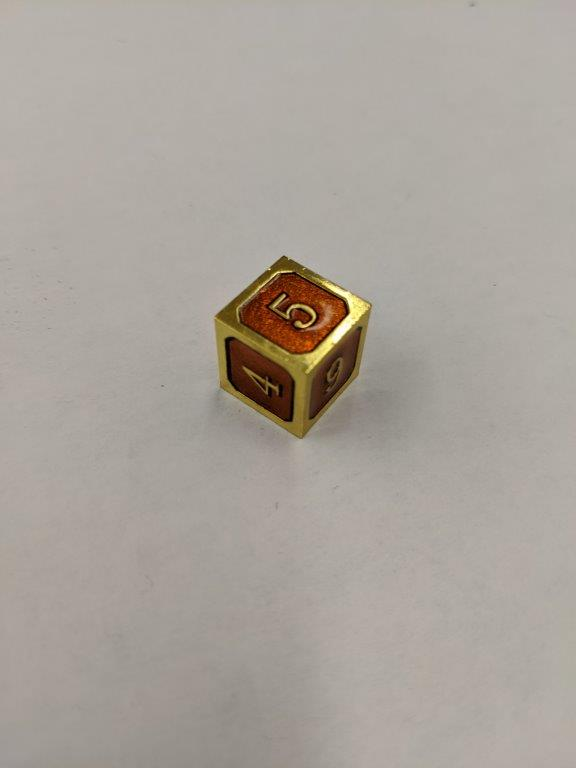d6-5: (215, 253, 373, 437)
